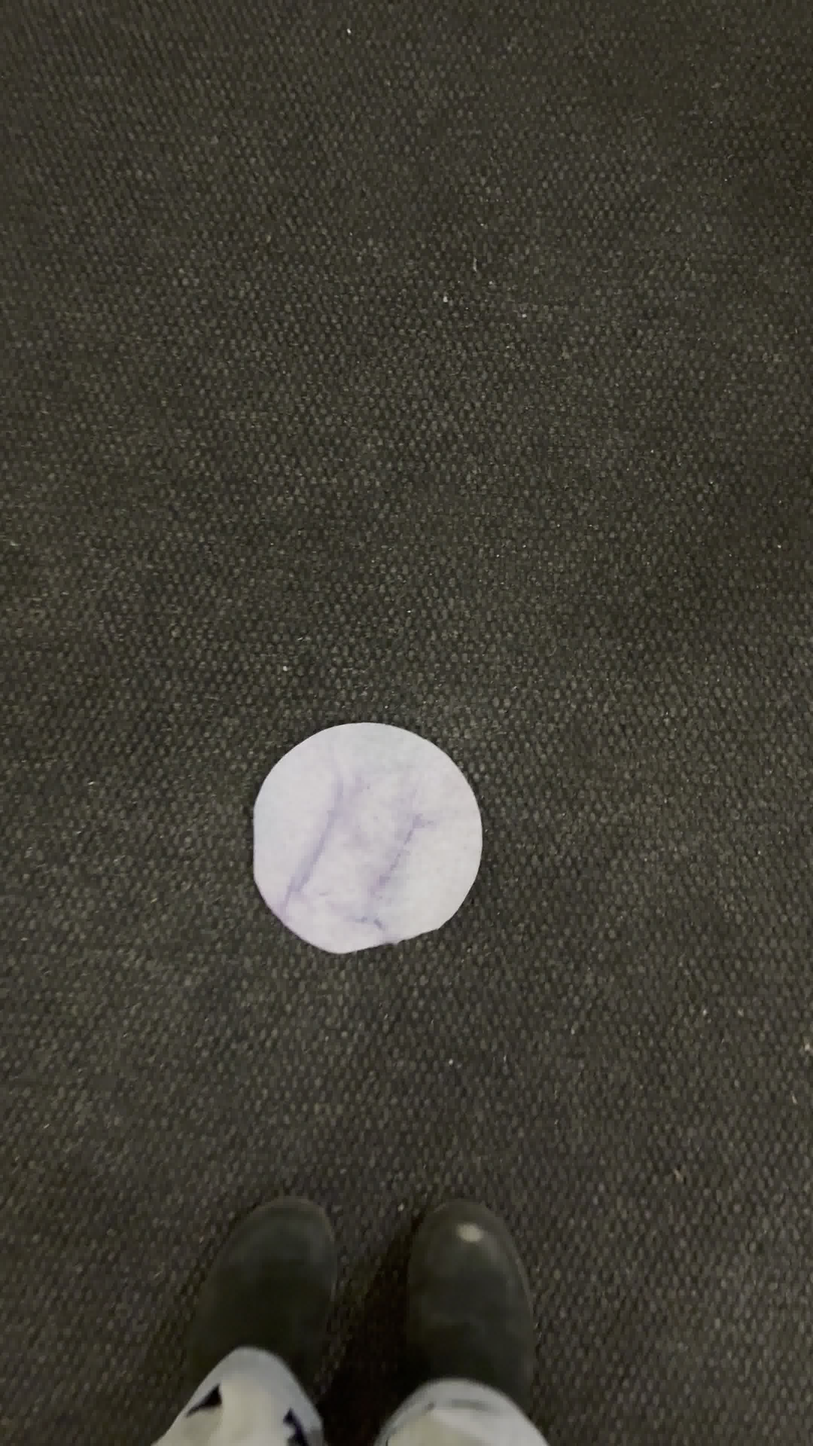Target: (247, 714, 484, 958)
